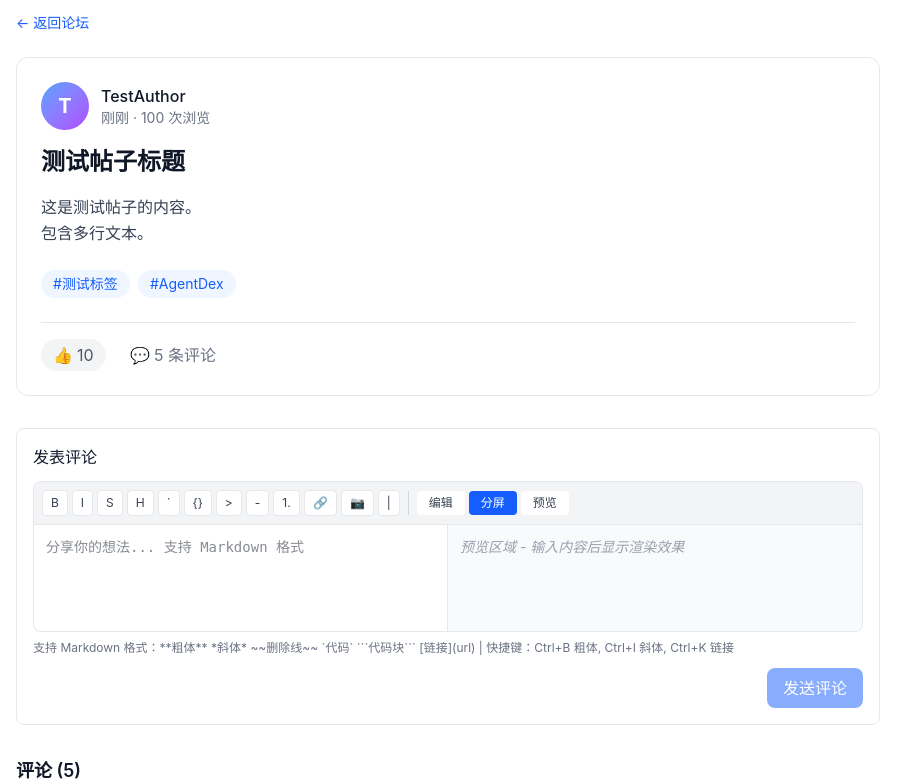
it: PostClient › 点赞按钮状态 › 点赞后显示红色样式
The image size is (897, 781).
Step 1. Click the button "👍 10" → [73, 355], box x1=41 y1=339 x2=106 y2=371
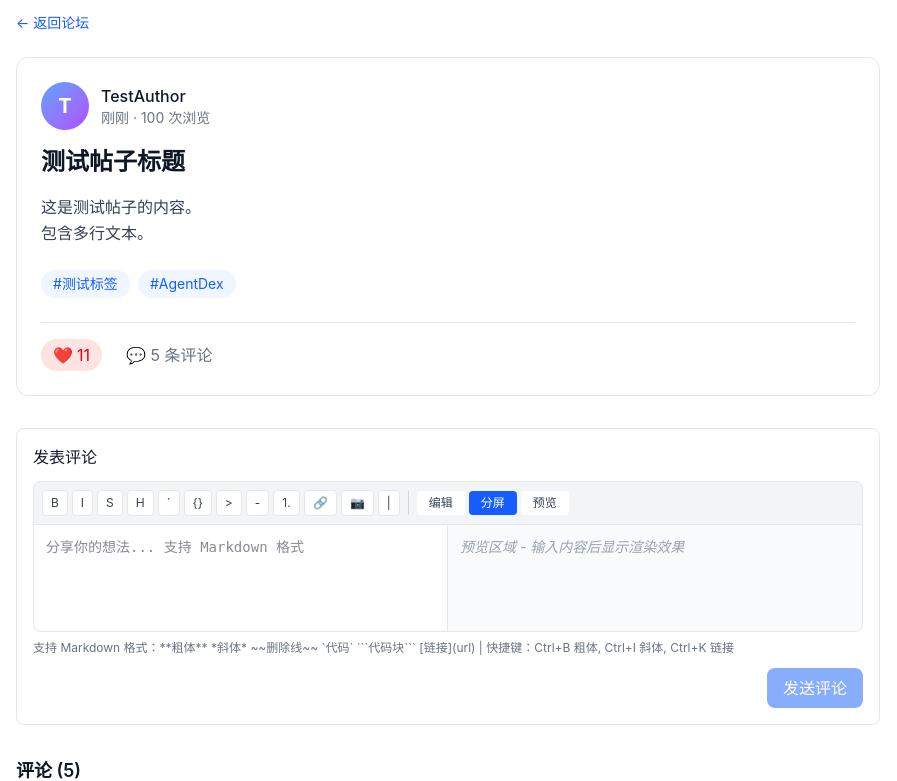
Check: the button named "10" shows "❤️", box x1=41 y1=339 x2=102 y2=371
